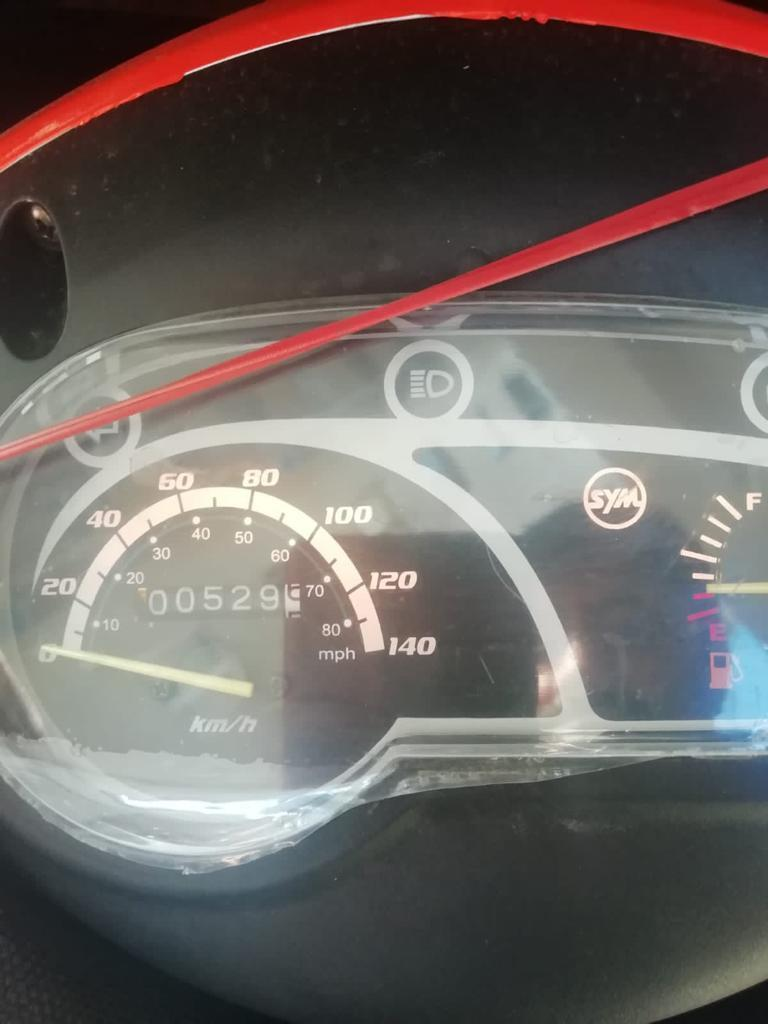0: (174, 585, 195, 613), (147, 589, 167, 615)
2: (230, 584, 252, 611)
5: (202, 585, 223, 611)
6: (286, 578, 304, 601)
9: (259, 584, 279, 611)
odometer: (133, 580, 303, 625)
